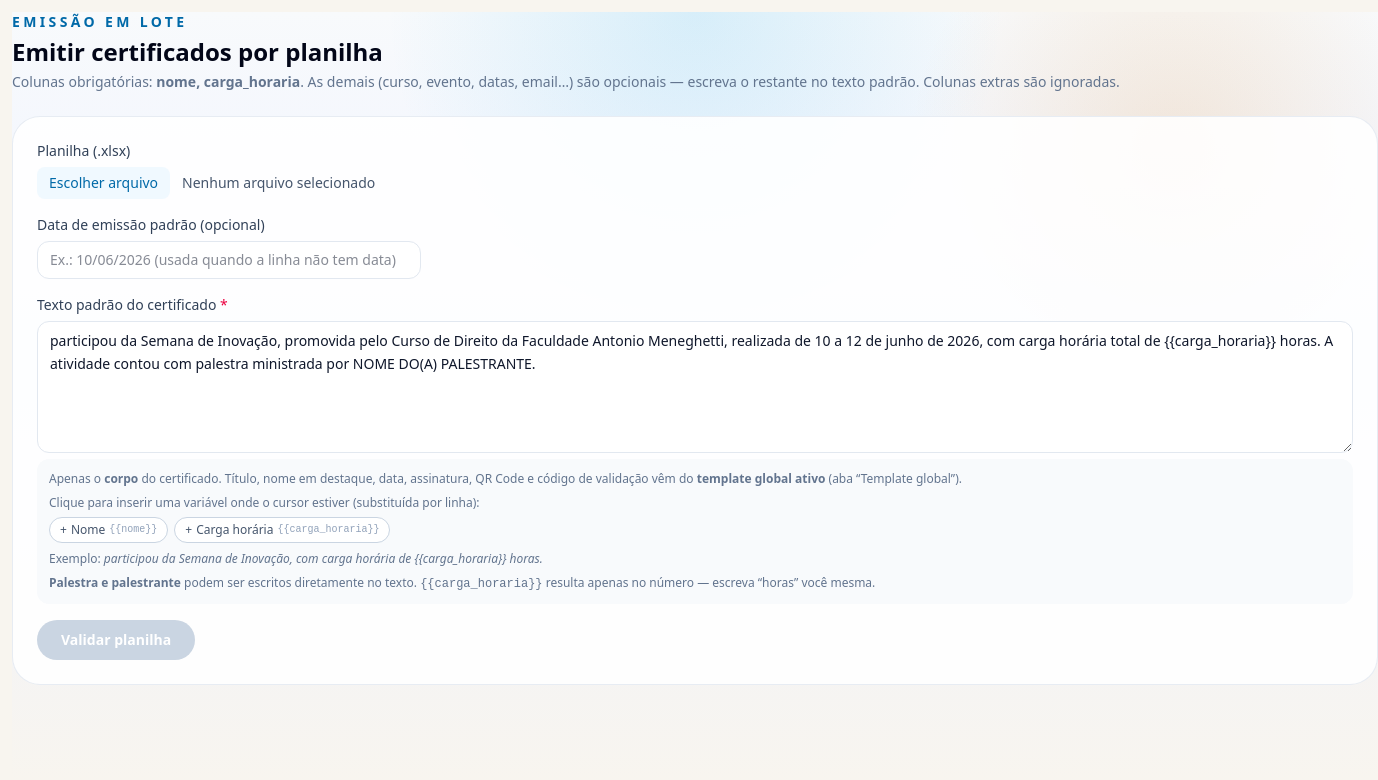
Test: botão insere a variável na posição do cursor
Replace the text in the text box labelled "Texto padrão do certificado" with "AB" at (695, 387), box [37,321,1353,453]
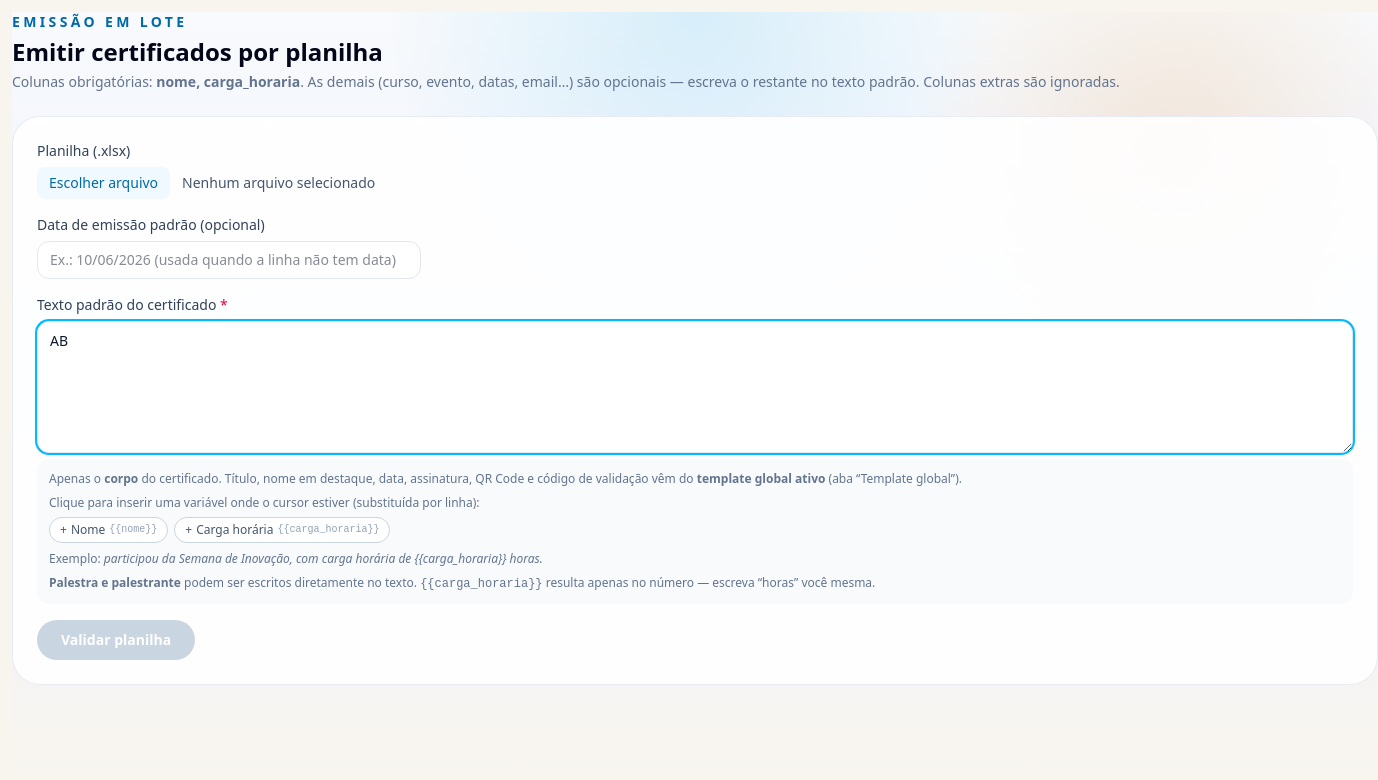
Click the button with aria-label "Inserir {{nome}}" at (109, 530), box [49,517,168,543]
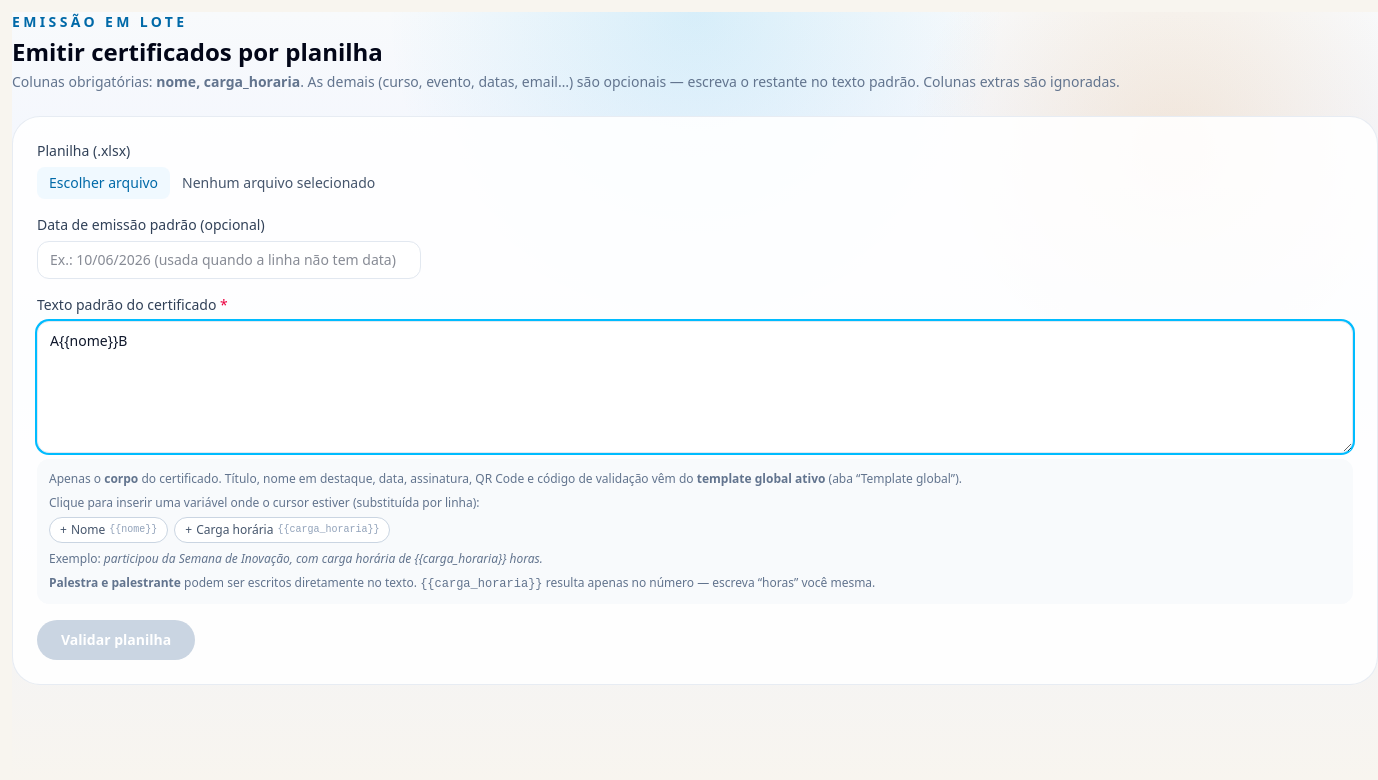
Expected: the text box labelled "Texto padrão do certificado" holds "A{{nome}}B", [37,321,1353,453]
Click the button with aria-label "Inserir {{carga_horaria}}" at (282, 530), box [174,517,390,543]
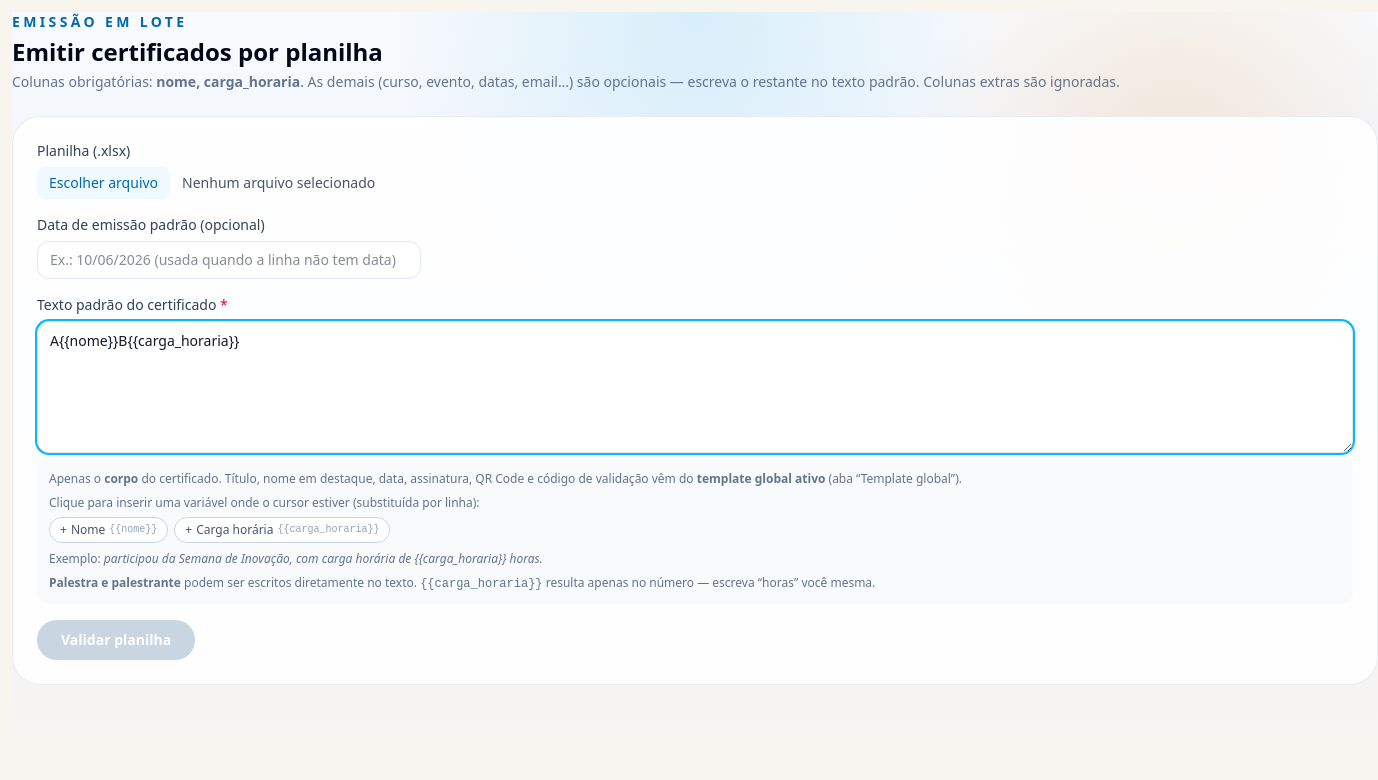
Expected: the text box labelled "Texto padrão do certificado" holds "A{{nome}}B{{carga_horaria}}", [37,321,1353,453]
